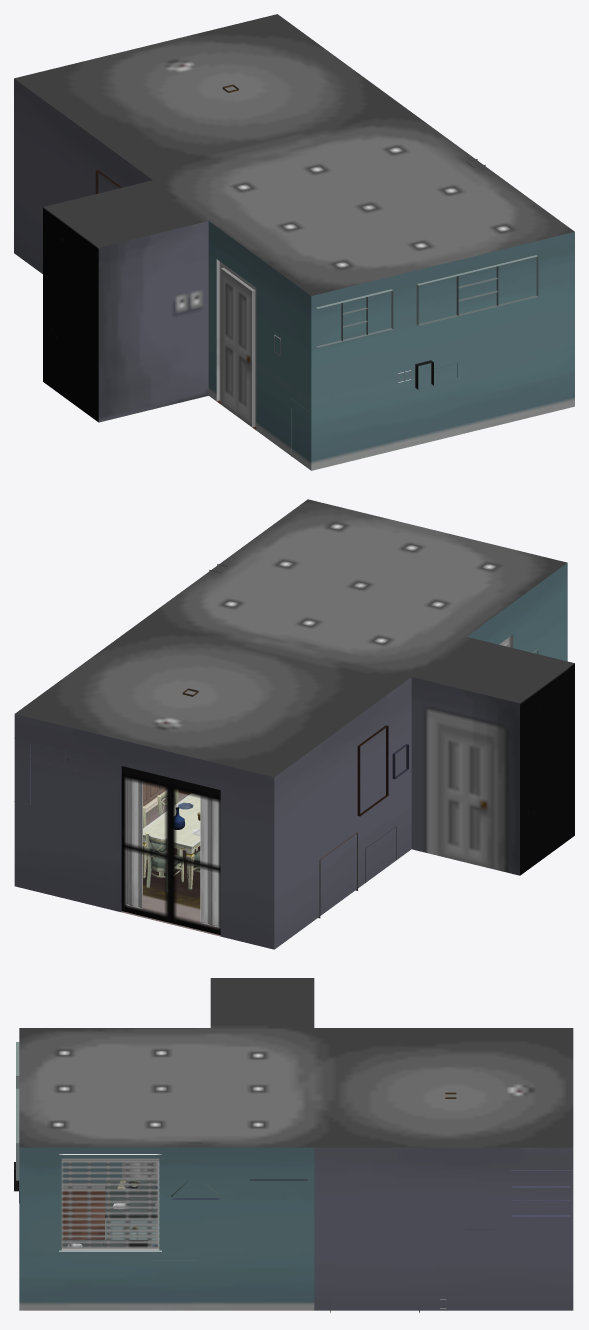
The model's file is room.gltf.
The picture shows the model from 3 angles, top to bottom: view 1: azimuth 30°, elevation 25°; view 2: azimuth 150°, elevation 25°; view 3: azimuth 270°, elevation 25°; orthographic projection. The views are drawn at different scales.
Visible parts, largest first — view 1: Room, Furniture; view 2: Room, Furniture, Items1; view 3: Room, Items1, Furniture.
Boxes of the visible parts, left/top/right/bottom form: Room: left=14, top=14, right=574, bottom=470; Furniture: left=95, top=84, right=538, bottom=456; Room: left=14, top=499, right=574, bottom=949; Furniture: left=14, top=564, right=408, bottom=927; Items1: left=68, top=649, right=538, bottom=934; Room: left=19, top=978, right=573, bottom=1310; Items1: left=14, top=1154, right=161, bottom=1251; Furniture: left=16, top=1042, right=572, bottom=1312.
Size of the model in its own units: 5.41 by 2.5 by 7.47.
8 materials, 8 textured.
